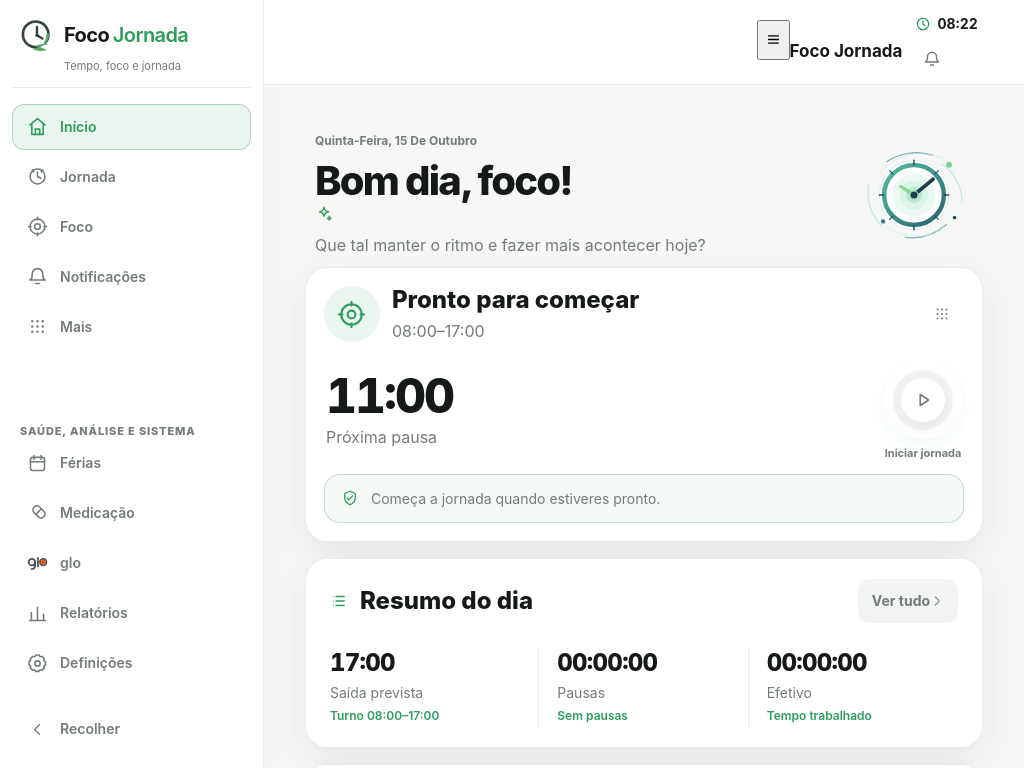
Test: App › mantém o painel rápido de notificações limpo e usa o estado animado local
Click the button named "Abrir centro de notificações": (932, 59) [910,41,954,77]
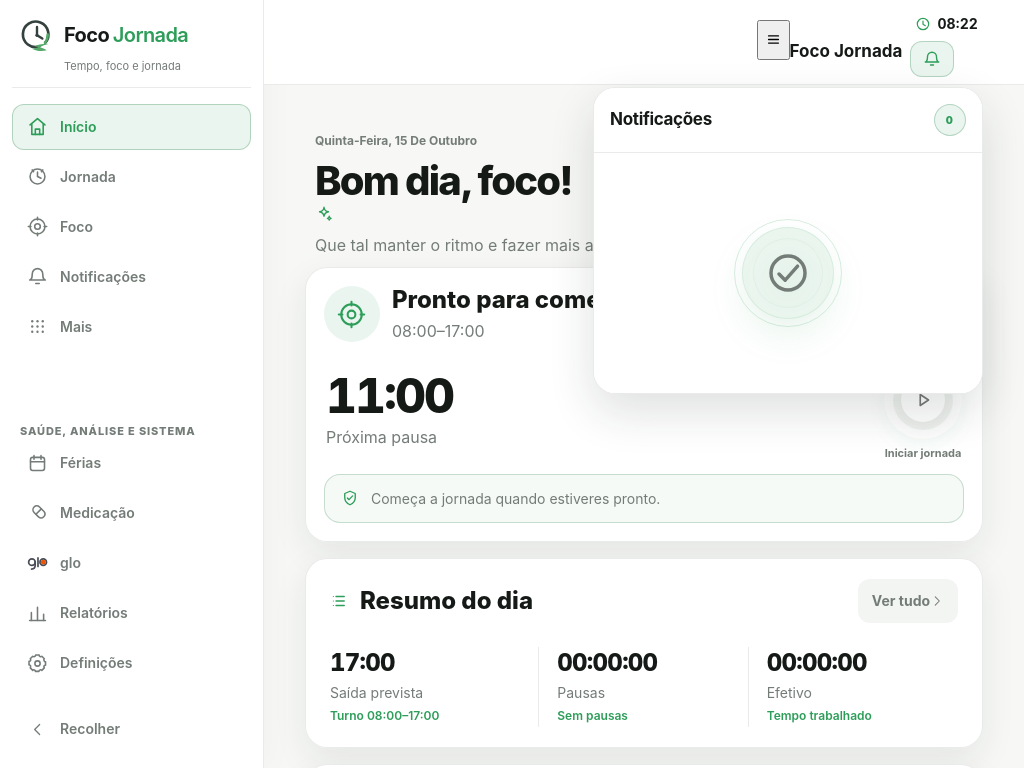
Expected: the message named "Tudo em dia. Sem notificações novas." is shown, [742,227,834,319]
Expected: the icon with class "appIcon--motion-draw" is shown, [764,249,812,297]
